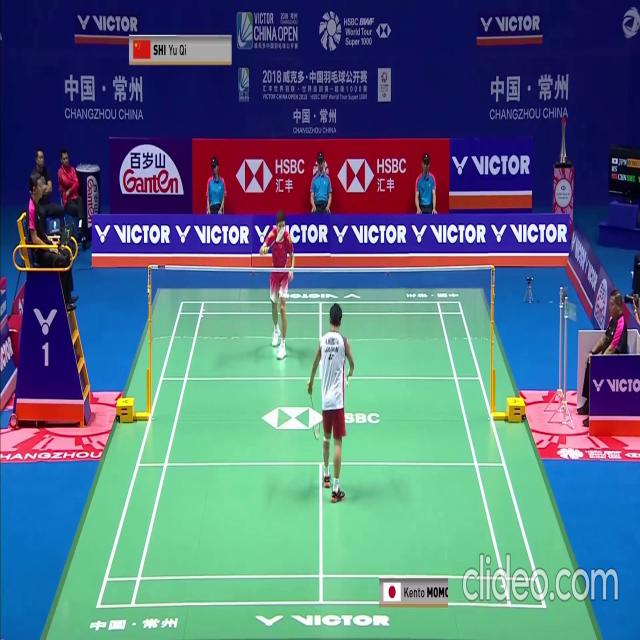Shuttlecock: (344, 383, 349, 391)
